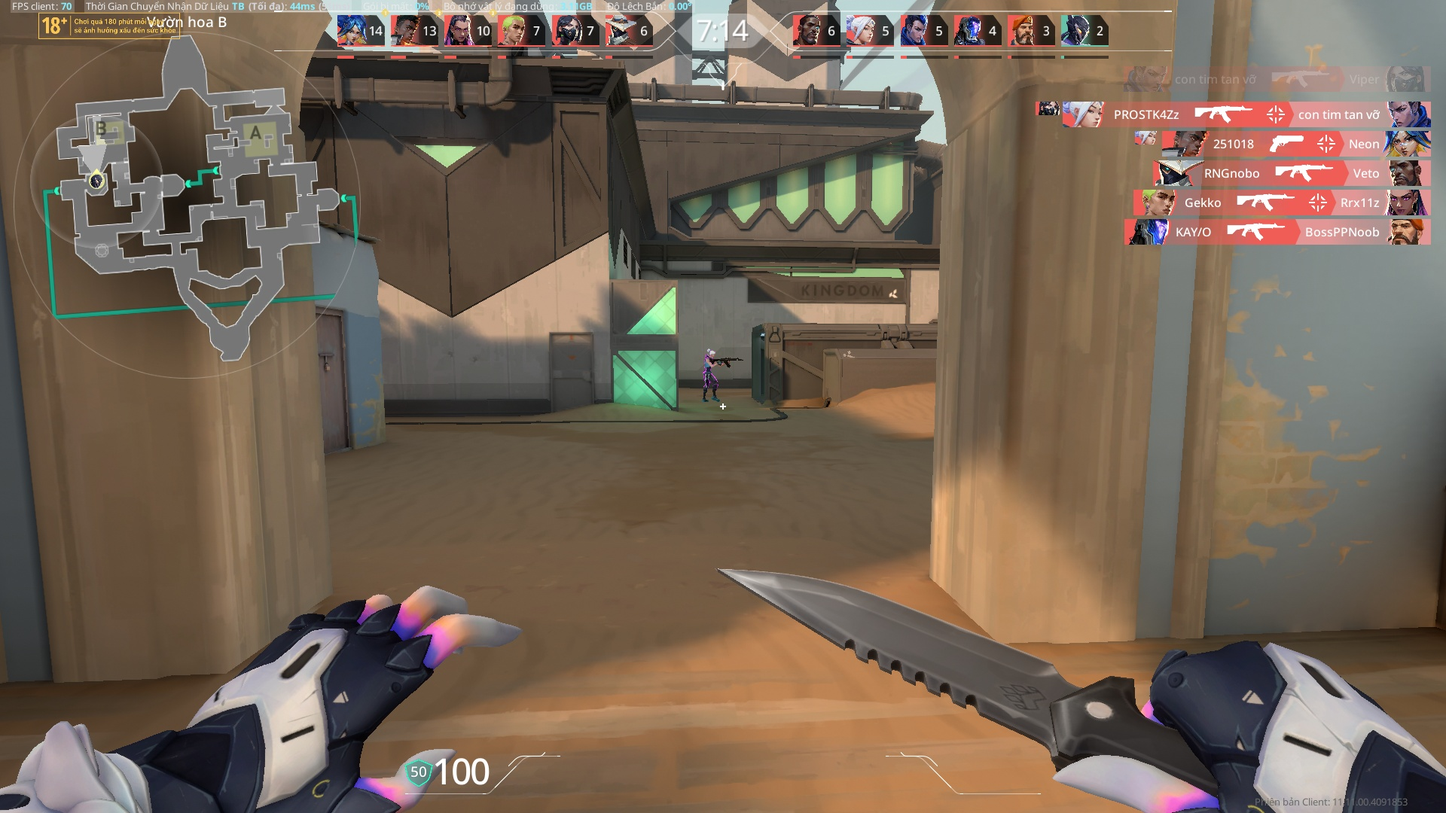body: (703, 355, 719, 373)
head: (704, 345, 716, 356)
